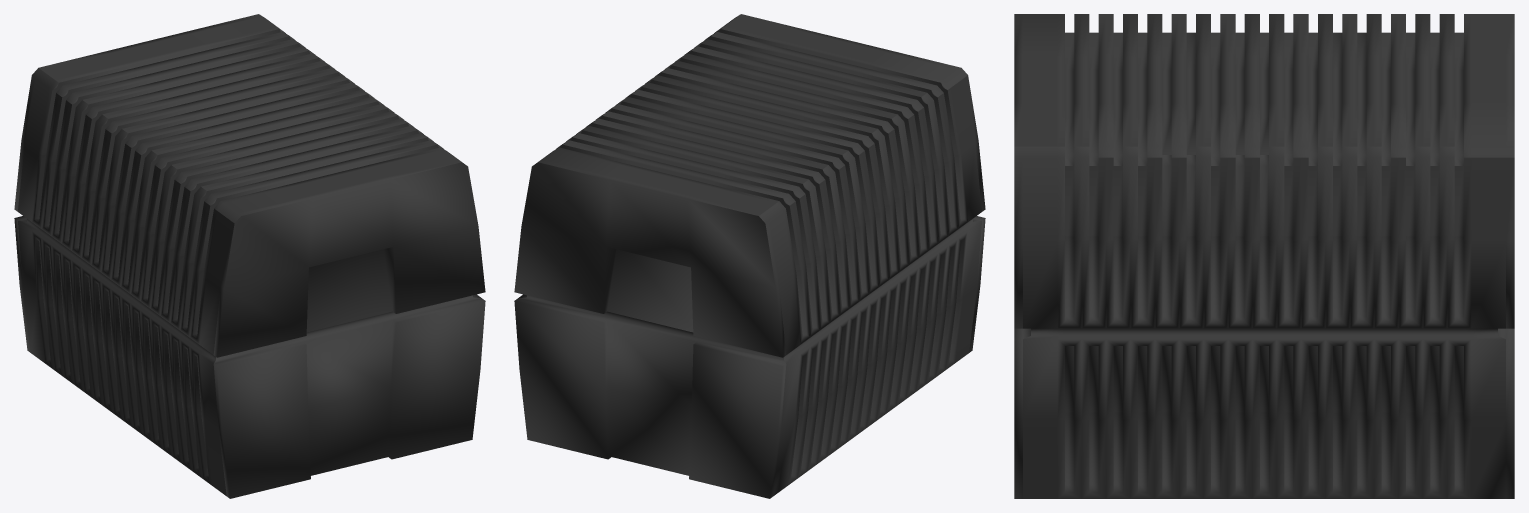
File: 1295_Humidifier.fbx
3 renders of one model, left to right at view 1: azimuth 30°, elevation 25°; view 2: azimuth 150°, elevation 25°; view 3: azimuth 270°, elevation 25°, orthographic. The views are drawn at different scales.
Visible parts, largest first — view 1: node_caa8a5f3_b42b_4a27_8f26_102c53cf274e_mesh0; view 2: node_caa8a5f3_b42b_4a27_8f26_102c53cf274e_mesh0; view 3: node_caa8a5f3_b42b_4a27_8f26_102c53cf274e_mesh0.
Boxes of the visible parts, <box> form: node_caa8a5f3_b42b_4a27_8f26_102c53cf274e_mesh0: <box>14,14,485,498</box>; node_caa8a5f3_b42b_4a27_8f26_102c53cf274e_mesh0: <box>514,14,985,498</box>; node_caa8a5f3_b42b_4a27_8f26_102c53cf274e_mesh0: <box>1014,14,1514,498</box>.
Bounding box in the file's own units: 8351 × 8327 × 10920.
1 material, 1 textured.
